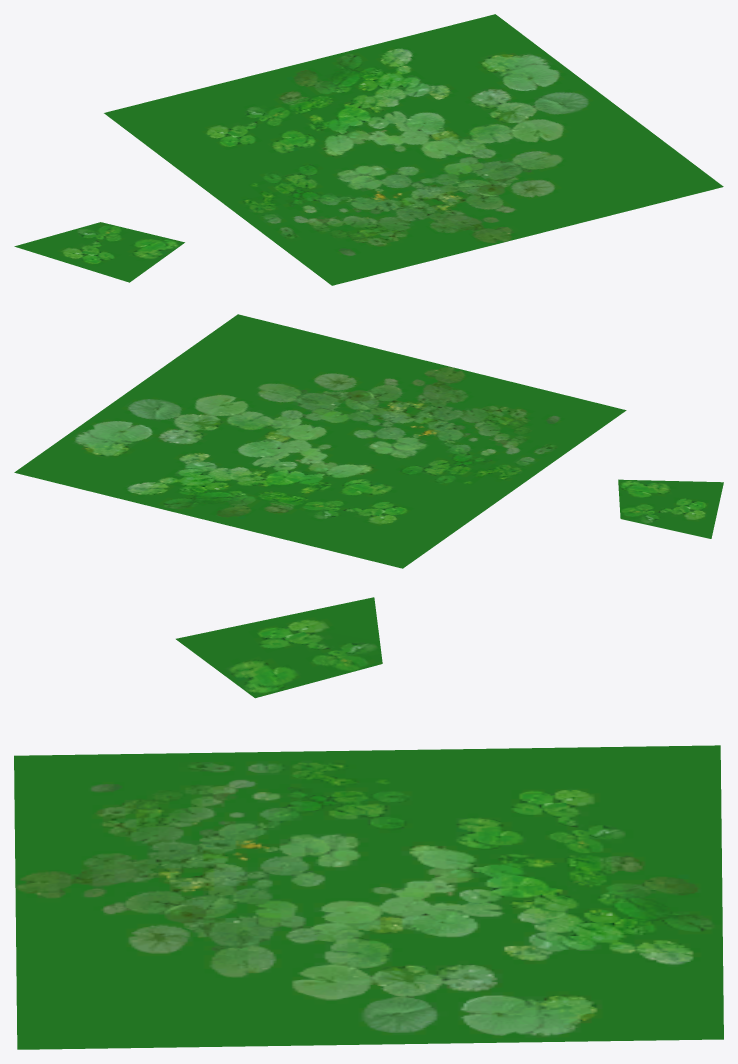
The model's file is environment_Tree_heyepian_004_a.FBX.
3 renders of one model, top to bottom at view 1: azimuth 30°, elevation 25°; view 2: azimuth 150°, elevation 25°; view 3: azimuth 270°, elevation 25°, orthographic. The views are drawn at different scales.
Visible parts, largest first — view 1: environment_Tree_heyepian_004_a, environment_Tree_heyepian_004_b; view 2: environment_Tree_heyepian_004_a, environment_Tree_heyepian_004_b; view 3: environment_Tree_heyepian_004_a, environment_Tree_heyepian_004_b.
Boxes of the visible parts, left/top/right/bottom form: environment_Tree_heyepian_004_a: left=104, top=14, right=723, bottom=285; environment_Tree_heyepian_004_b: left=14, top=222, right=184, bottom=282; environment_Tree_heyepian_004_a: left=14, top=314, right=626, bottom=568; environment_Tree_heyepian_004_b: left=618, top=479, right=723, bottom=538; environment_Tree_heyepian_004_a: left=14, top=745, right=723, bottom=1049; environment_Tree_heyepian_004_b: left=176, top=597, right=382, bottom=698.
Bounding box in the file's own units: 204 × 2.8 × 136.
1 material, 1 textured.
